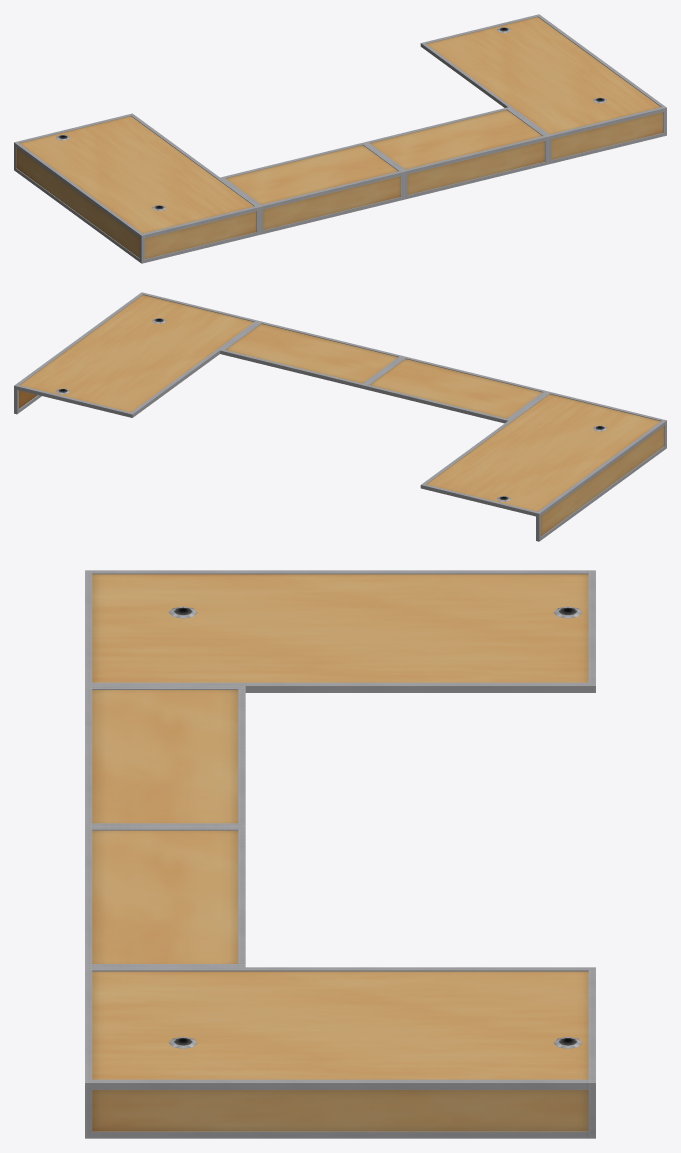
File: jsf_4P_s02_c05_t03_DX.fbx
The picture shows the model from 3 angles, top to bottom: view 1: azimuth 30°, elevation 25°; view 2: azimuth 150°, elevation 25°; view 3: azimuth 270°, elevation 25°; orthographic projection. The views are drawn at different scales.
Parts seen in each view (by area): view 1: jsf_4P_s02_c05_t03_DX; view 2: jsf_4P_s02_c05_t03_DX; view 3: jsf_4P_s02_c05_t03_DX.
Boxes of the visible parts, bbox=[...] form: jsf_4P_s02_c05_t03_DX: bbox=[14, 14, 666, 263]; jsf_4P_s02_c05_t03_DX: bbox=[14, 292, 666, 541]; jsf_4P_s02_c05_t03_DX: bbox=[85, 570, 595, 1138].
Bounding box in the file's own units: 246 × 12.99 × 104.
